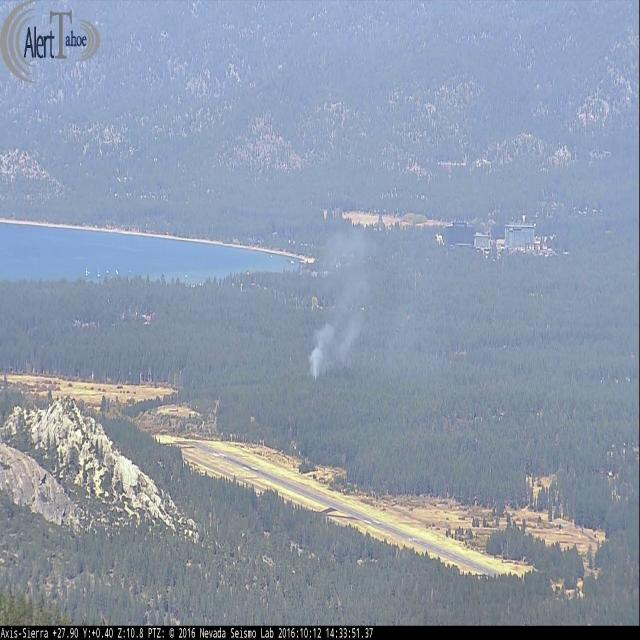smoke: (306, 226, 376, 383)
